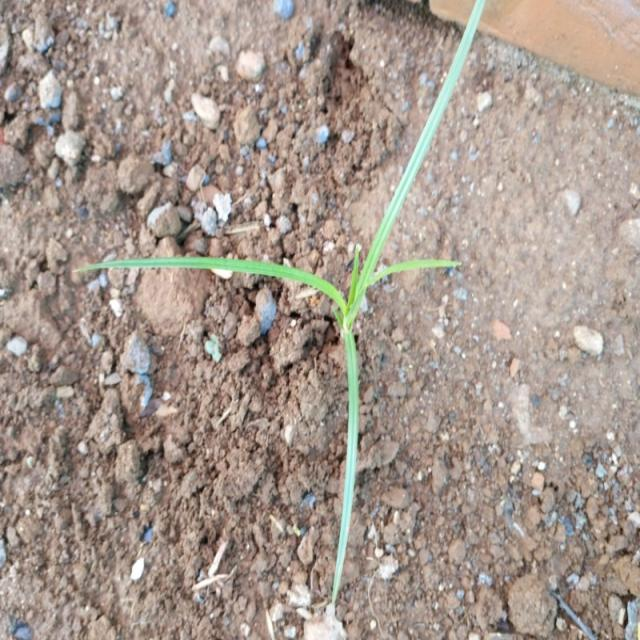sedge: (74, 0, 508, 531)
